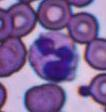N: (29, 32, 79, 82)
